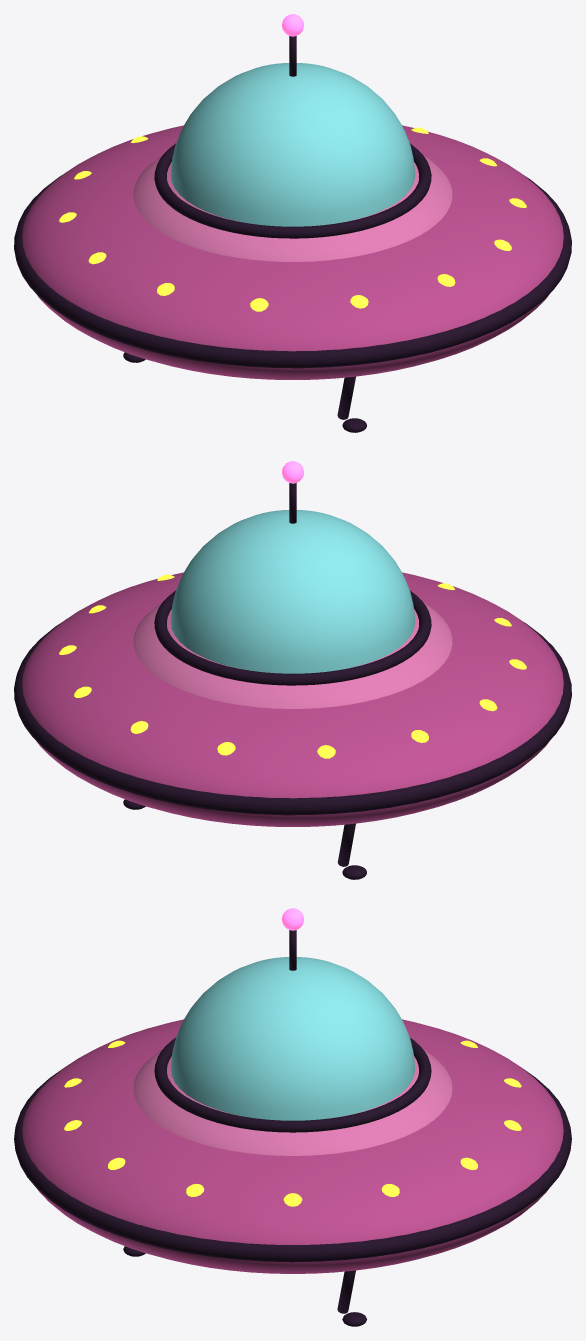
Rendered from ufo.glb.
3 renders of one model, top to bottom at view 1: azimuth 30°, elevation 25°; view 2: azimuth 150°, elevation 25°; view 3: azimuth 270°, elevation 25°, orthographic.
Parts seen in each view (by area): view 1: UfoBody, UfoDome, UfoLights; view 2: UfoBody, UfoDome, UfoLights; view 3: UfoBody, UfoDome, UfoLights.
Part boxes in pixels (x1,y1,x2,y2): UfoBody: (14,36,571,432); UfoDome: (170,63,415,226); UfoLights: (59,127,526,311); UfoBody: (14,483,571,879); UfoDome: (170,510,415,673); UfoLights: (59,574,526,758); UfoBody: (14,930,571,1326); UfoDome: (170,957,415,1120); UfoLights: (64,1040,521,1206).
Bounding box in the file's own units: 4.47 × 3.12 × 4.47.
